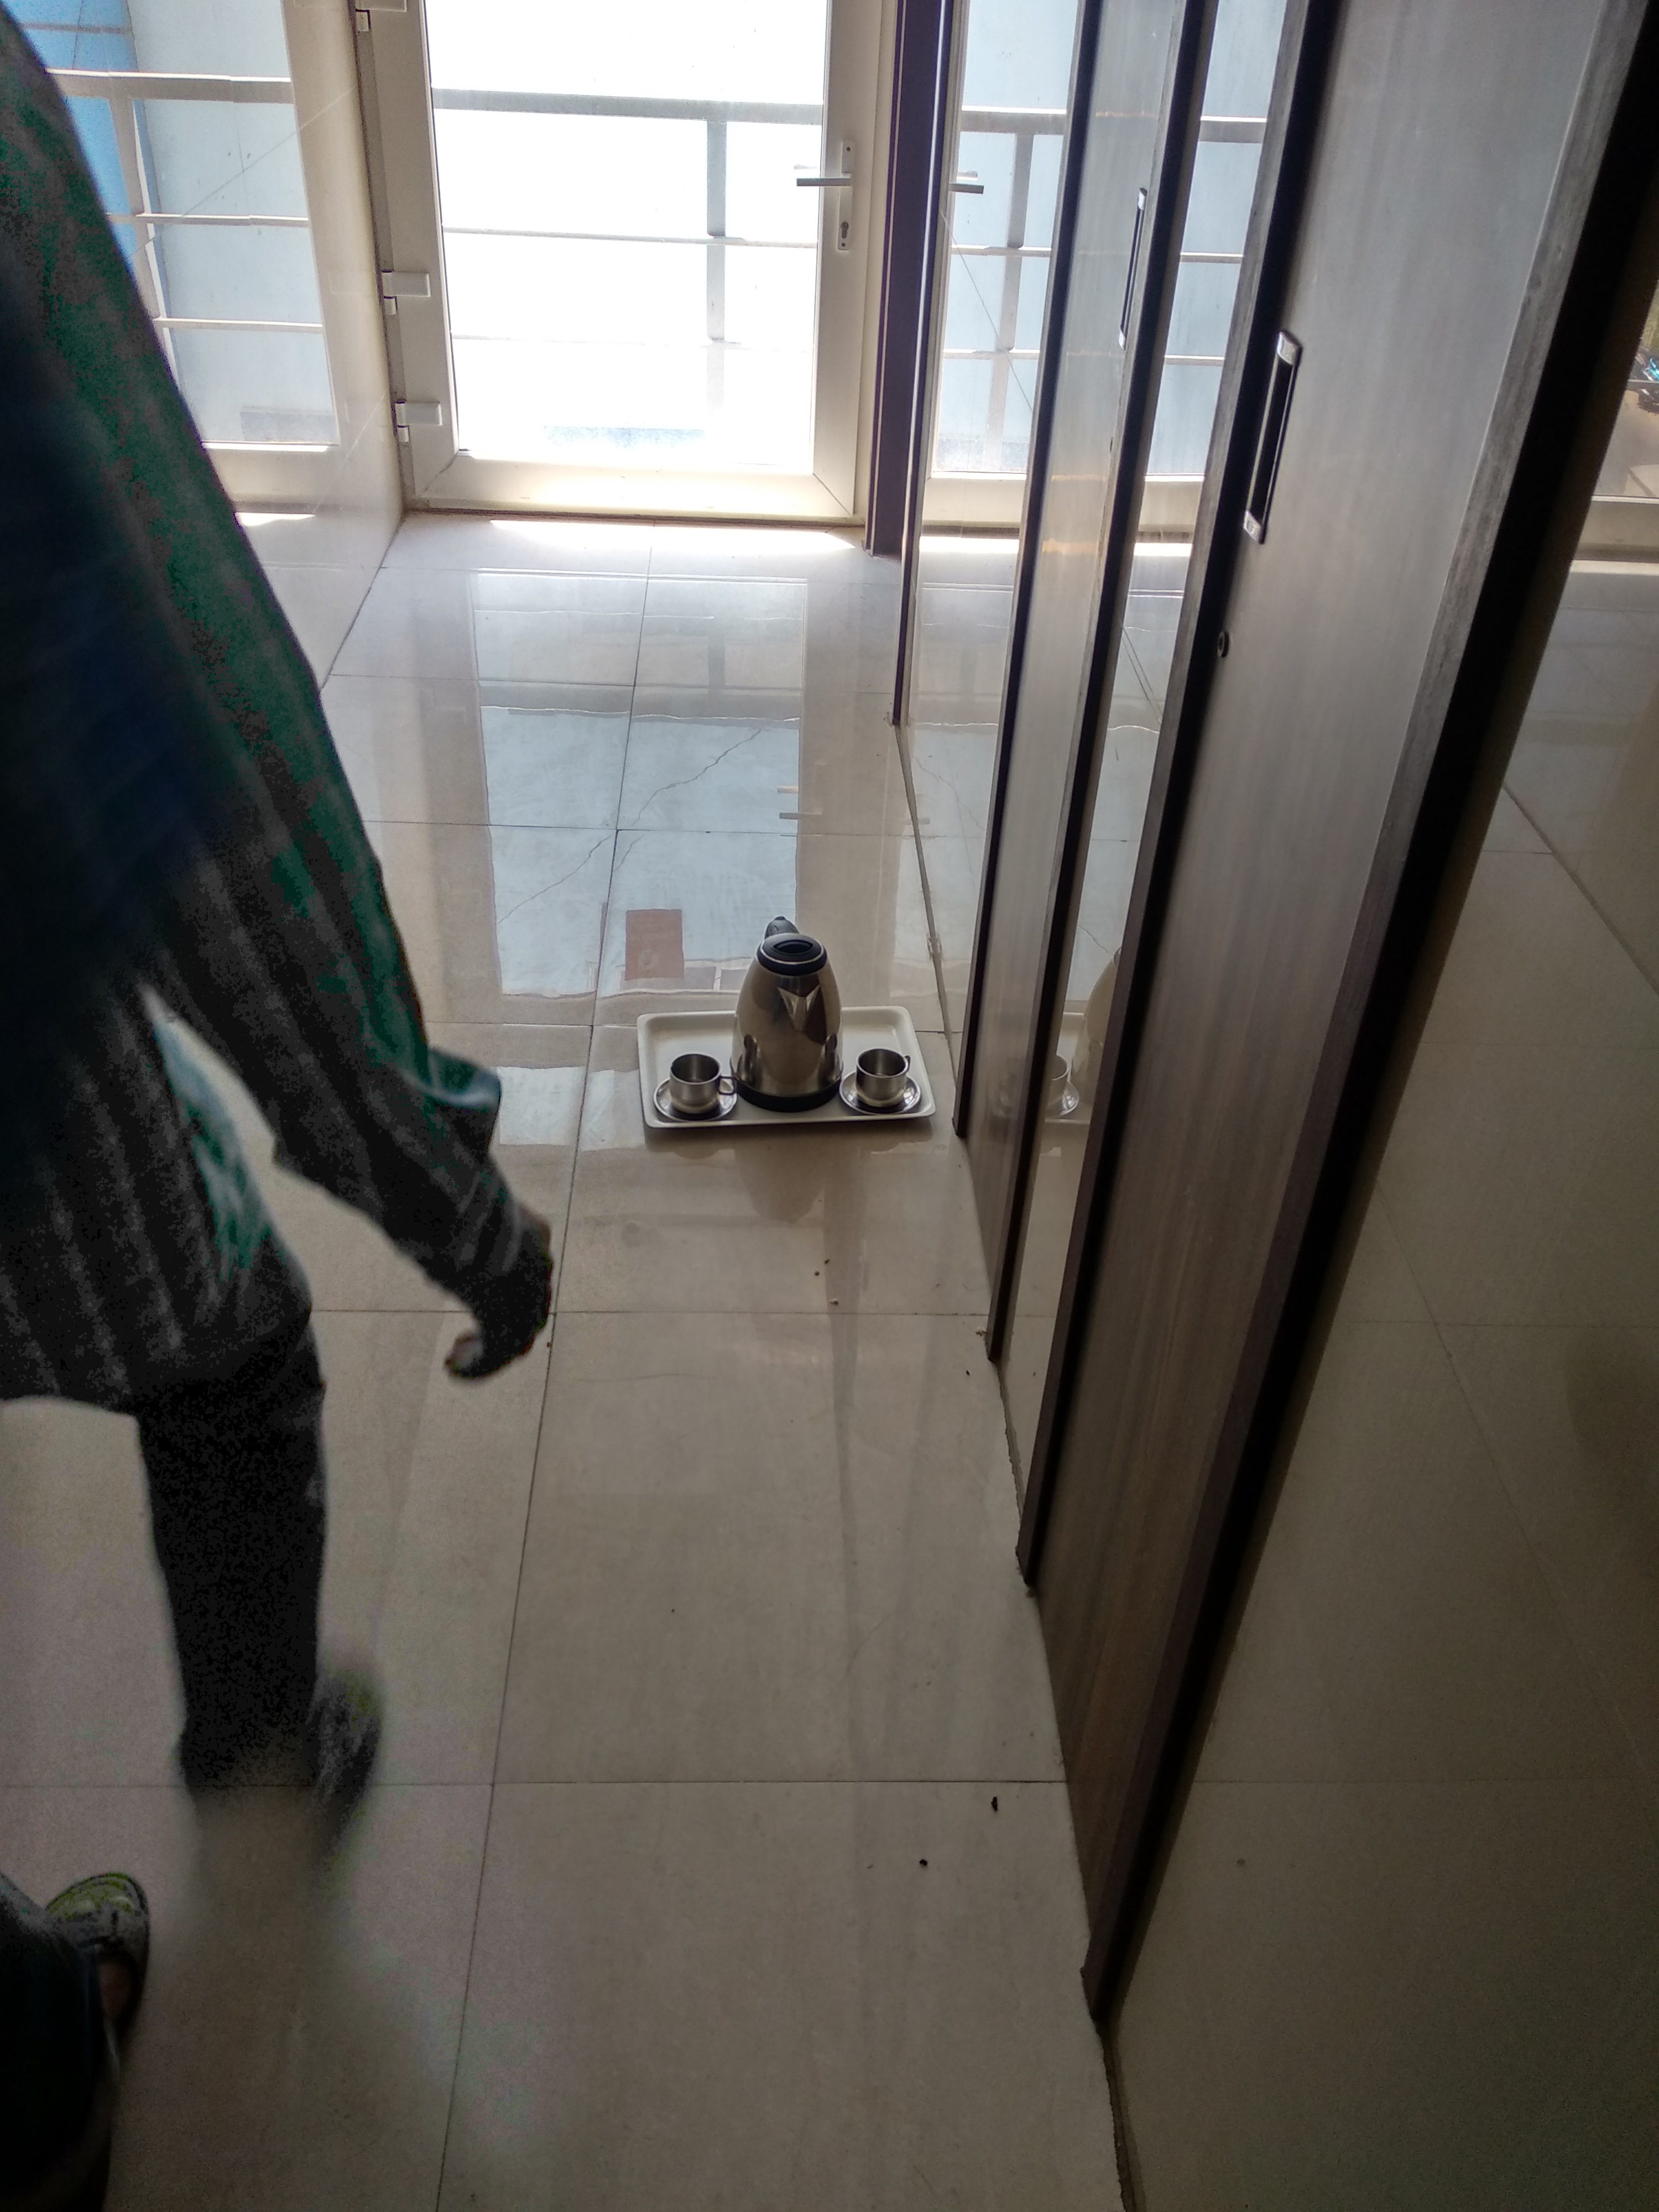CUP: (666, 1054, 725, 1115), (854, 1047, 910, 1109)
JUG: (732, 918, 843, 1111)
